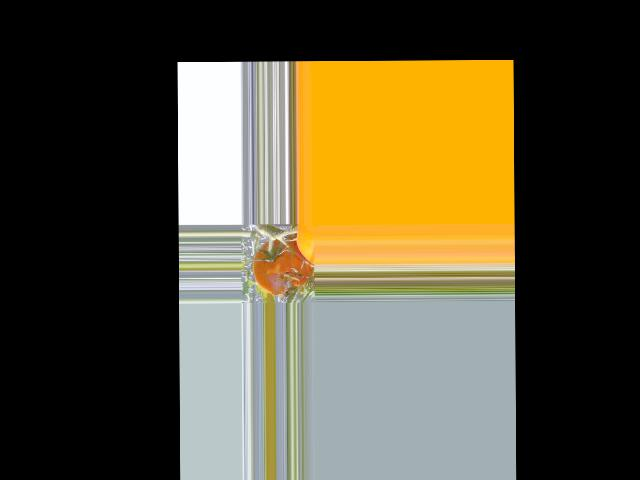tomato: (252, 239, 313, 296)
